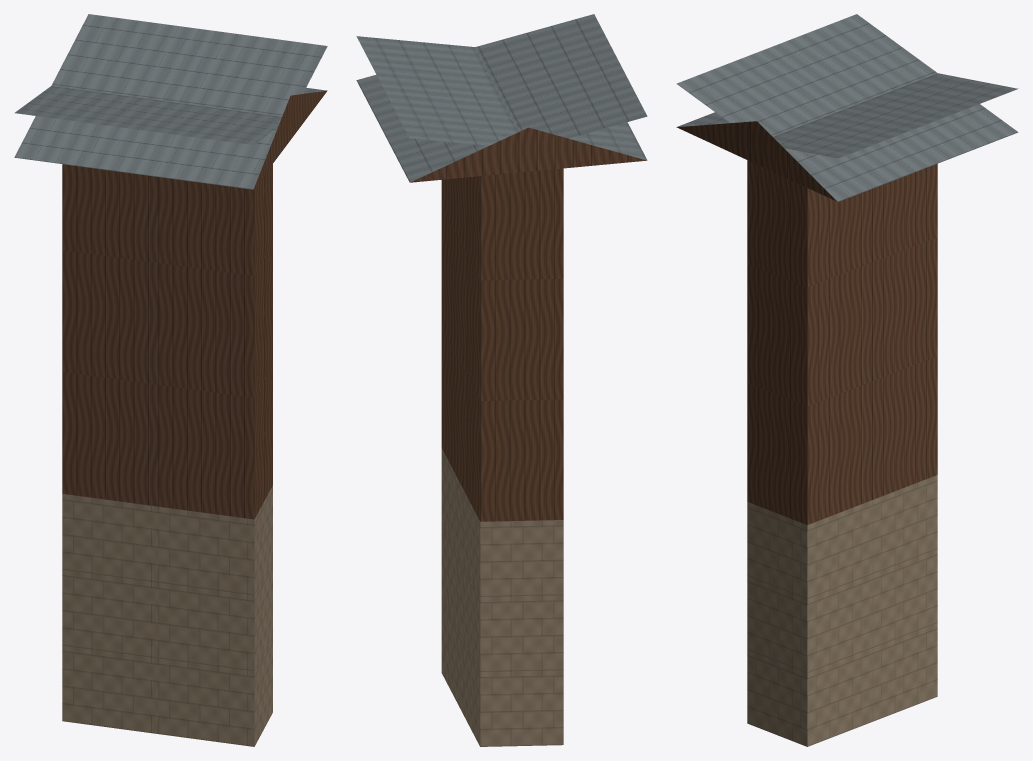
Rendered from bld_c33_-29_458.gltf.
3 renders of one model, left to right at view 1: azimuth 30°, elevation 25°; view 2: azimuth 150°, elevation 25°; view 3: azimuth 270°, elevation 25°, orthographic. The views are drawn at different scales.
Visible parts, largest first — view 1: bld_c33_-29_458; view 2: bld_c33_-29_458; view 3: bld_c33_-29_458.
Boxes of the visible parts, box(x1,y1,x2,y2) form: bld_c33_-29_458: box(14, 14, 327, 746); bld_c33_-29_458: box(356, 14, 647, 746); bld_c33_-29_458: box(676, 14, 1018, 746).
Size of the model in its own units: 7.13 by 14.3 by 7.14.
Materials: 4 (4 with a texture image).
